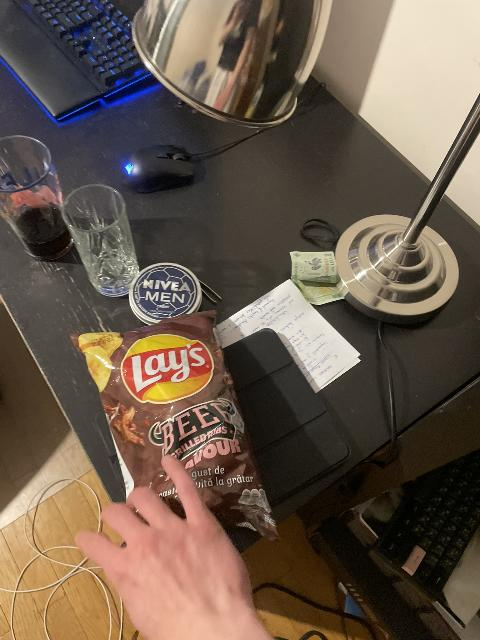Lays Beef Grilled Ribs 125g: (71, 312, 282, 540)
